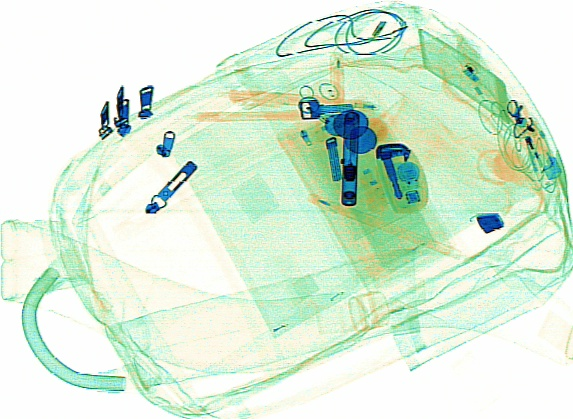lighter: (507, 105, 564, 181)
